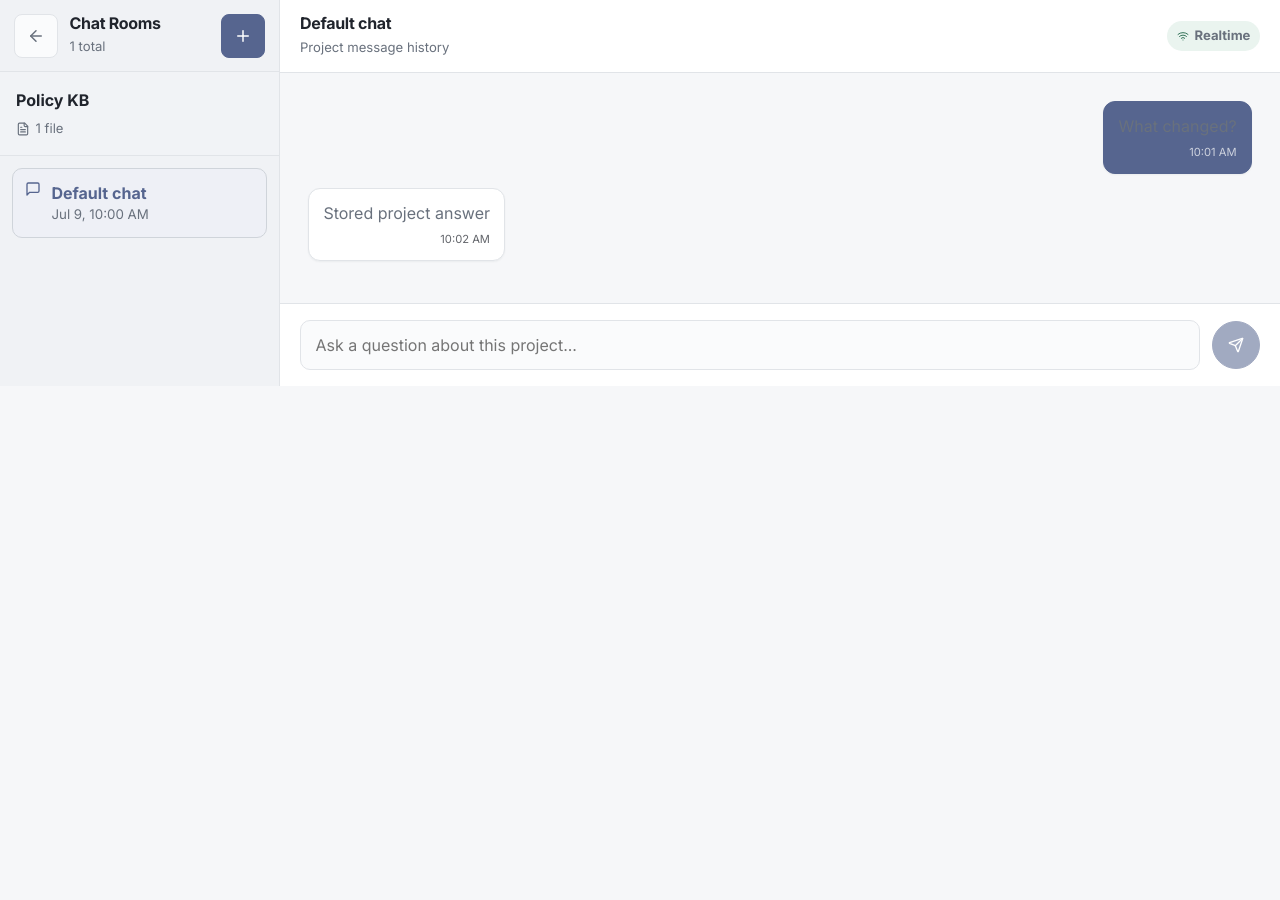
Test: ProjectChat › creates a named project chat room and selects it
Click the button named "Create chat room".
click(243, 36)  # box [221, 14, 265, 58]
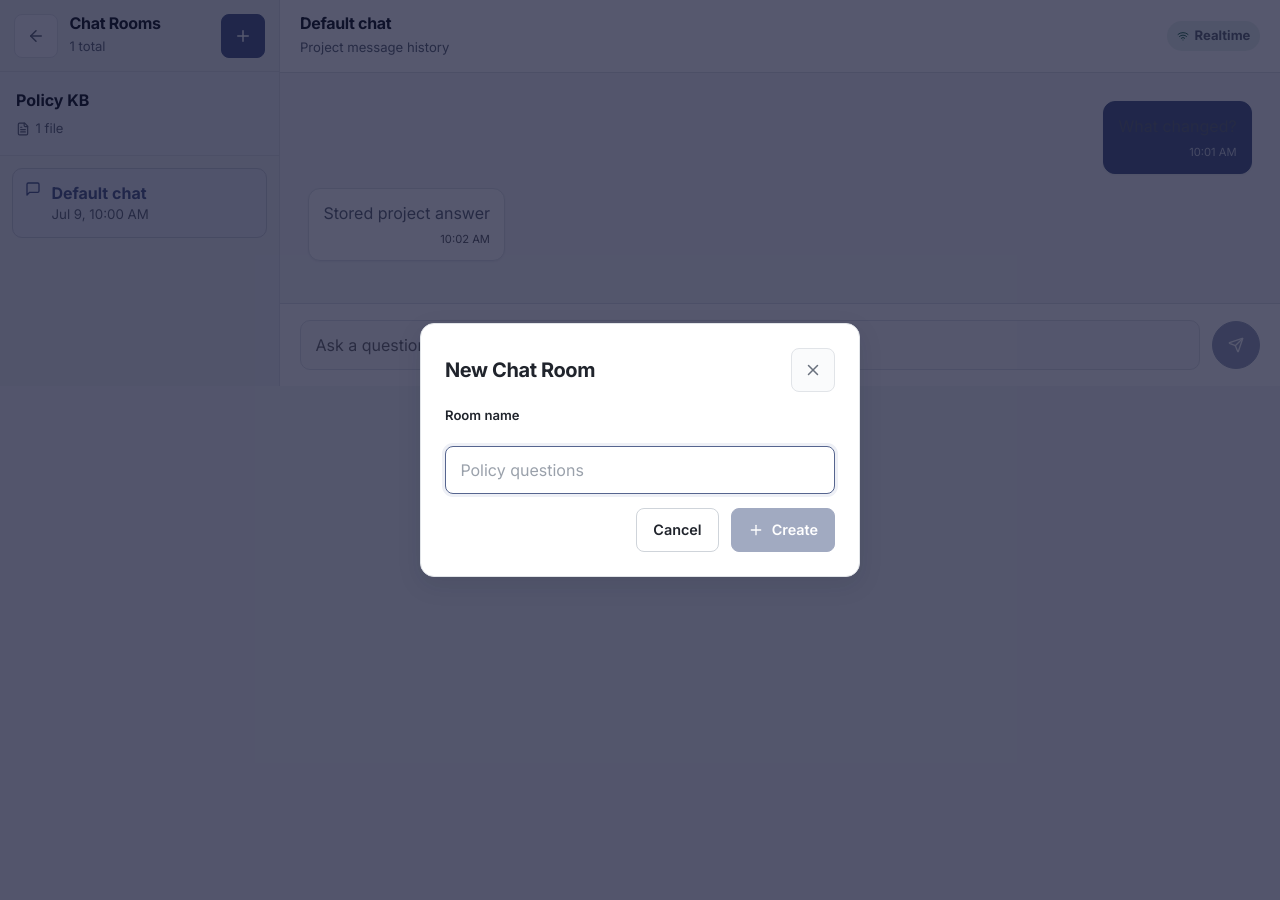
Type "Budget questions" into the field labelled "Room name".
click(640, 470); type("Budget questions")  # box [445, 446, 835, 494]
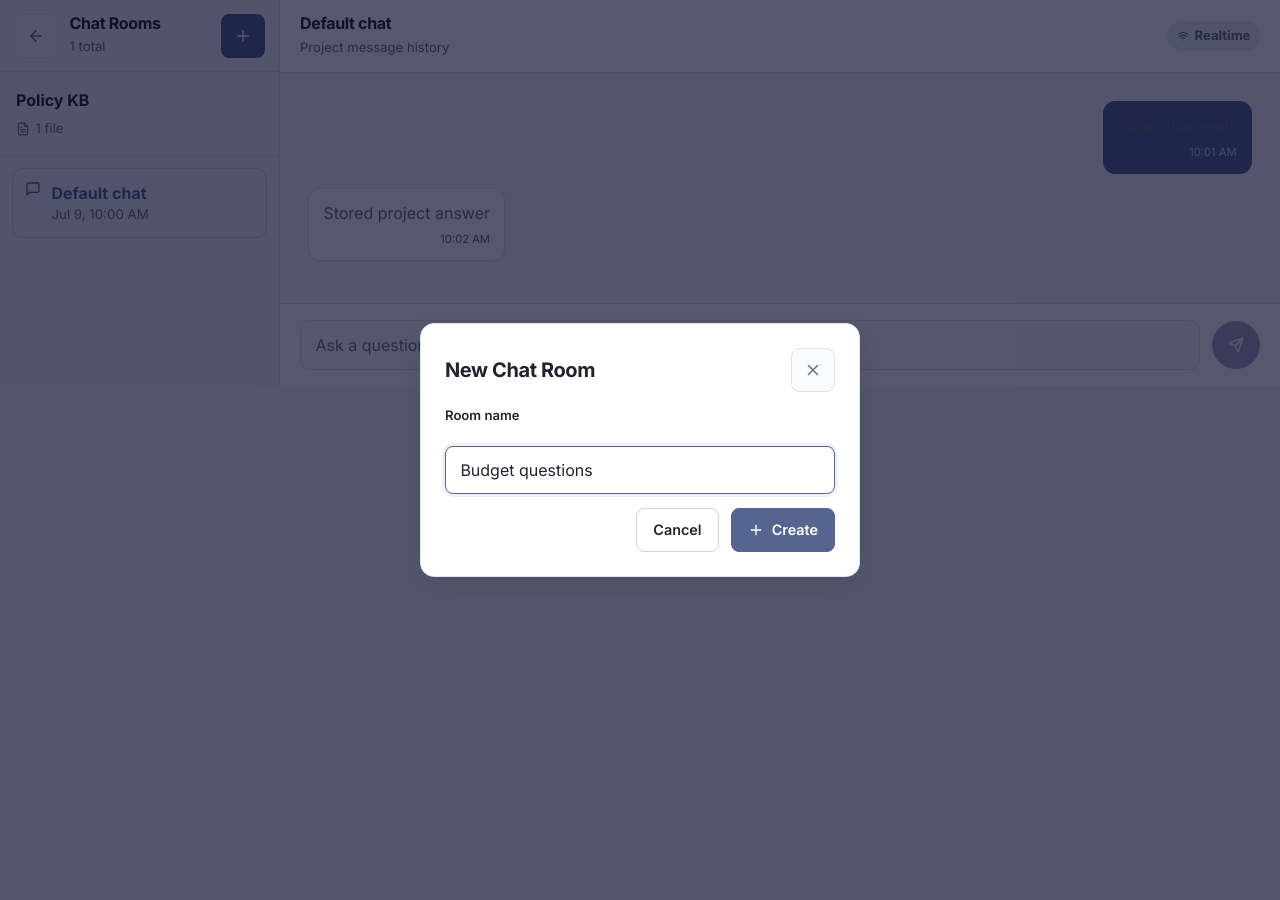
Click the button "Create".
click(783, 530)  # box [731, 508, 835, 552]
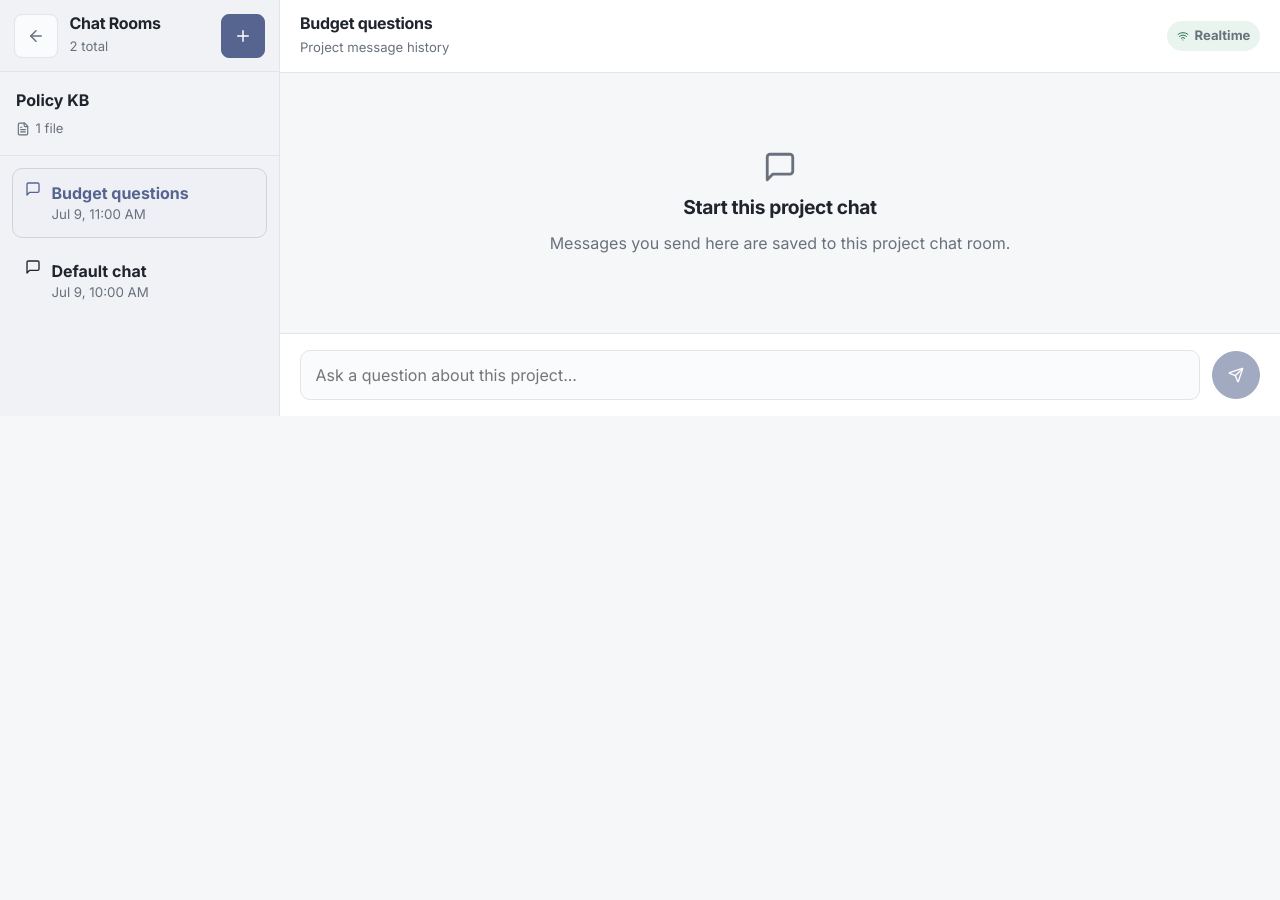
Check: the text "Budget questions" is shown, box [51, 181, 189, 205]
